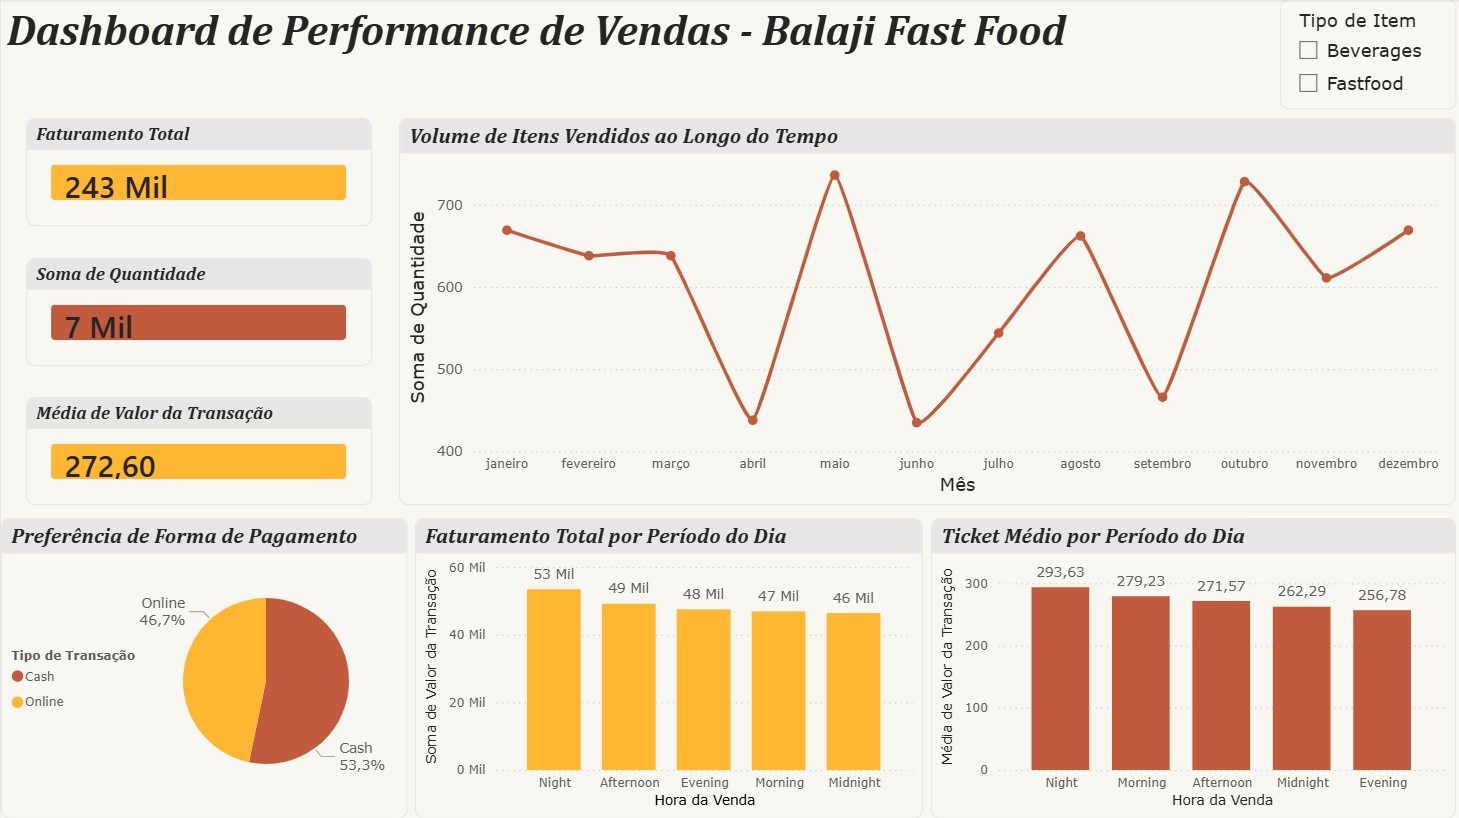

The dashboard page shown, as its layout file describes it:
{"tool":"powerbi","page":{"name":"Página 1","canvas":[1280,720],"ordinal":0},"visuals":[{"type":"clusteredColumnChart","title":"Faturamento Total por Período do Dia","fields":{"Category":["Balaji Fast Food Sales.Hora da Venda"],"Y":["Sum(Balaji Fast Food Sales.Valor da Transação)"]},"box":[363.5,455.7,446,264.3],"z":0},{"type":"lineChart","title":"Volume de Itens Vendidos ao Longo do Tempo","fields":{"Y":["Sum(Balaji Fast Food Sales.Quantidade)"],"Category":["Balaji Fast Food Sales.Data.Variation.Hierarquia de datas.Ano","Balaji Fast Food Sales.Data.Variation.Hierarquia de datas.Trimestre","Balaji Fast Food Sales.Data.Variation.Hierarquia de datas.Mês","Balaji Fast Food Sales.Data.Variation.Hierarquia de datas.Dia"]},"box":[349.5,104.5,928.1,339.8],"z":1000},{"type":"pieChart","title":"Preferência de Forma de Pagamento","fields":{"Category":["Balaji Fast Food Sales.Tipo de Transação"],"Y":["CountNonNull(Balaji Fast Food Sales.ID do Pedido)"]},"box":[0,455.7,357.4,264.3],"z":2000},{"type":"clusteredColumnChart","title":"Ticket Médio por Período do Dia","fields":{"Category":["Balaji Fast Food Sales.Hora da Venda"],"Y":["Avg(Balaji Fast Food Sales.Valor da Transação)"]},"box":[816.6,455.7,461,264.3],"z":3000},{"type":"textbox","box":[0,0,1280.2,71.1],"z":4000},{"type":"cardVisual","title":"Faturamento Total","fields":{"Data":["Sum(Balaji Fast Food Sales.Valor da Transação)"]},"box":[22,104.5,303.8,94.8],"z":5000},{"type":"cardVisual","title":"Soma de Quantidade","fields":{"Data":["Sum(Balaji Fast Food Sales.Quantidade)"]},"box":[22,227.4,303.8,94.8],"z":6000},{"type":"cardVisual","title":"Média de Valor da Transação","fields":{"Data":["Avg(Balaji Fast Food Sales.Valor da Transação)"]},"box":[22,349.5,303.8,94.8],"z":7000},{"type":"slicer","fields":{"Values":["Balaji Fast Food Sales.Tipo de Item"]},"box":[1123,0,154.5,96.6],"z":8000}]}

Visuals, with their boxes in screenshot pixels (x1, y1, x2, y2), scaled from the page's 1280x720 canvas onto the 1459x818 screenshot:
"Faturamento Total por Período do Dia" clusteredColumnChart: bbox(414, 518, 923, 817)
"Volume de Itens Vendidos ao Longo do Tempo" lineChart: bbox(398, 119, 1456, 505)
"Preferência de Forma de Pagamento" pieChart: bbox(0, 518, 407, 817)
"Ticket Médio por Período do Dia" clusteredColumnChart: bbox(931, 518, 1456, 817)
textbox: bbox(0, 0, 1458, 81)
"Faturamento Total" cardVisual: bbox(25, 119, 371, 226)
"Soma de Quantidade" cardVisual: bbox(25, 258, 371, 366)
"Média de Valor da Transação" cardVisual: bbox(25, 397, 371, 505)
slicer - Balaji Fast Food Sales.Tipo de Item: bbox(1280, 0, 1456, 110)
